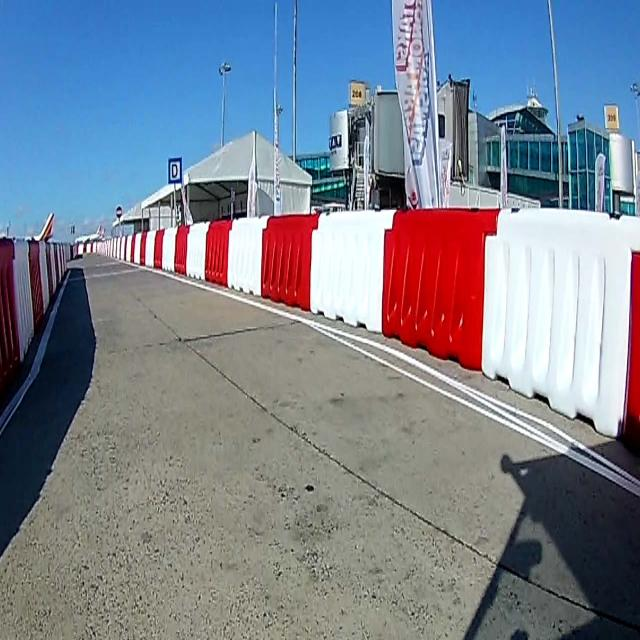durak: (169, 156, 183, 184)
girisyok: (116, 206, 124, 220)
